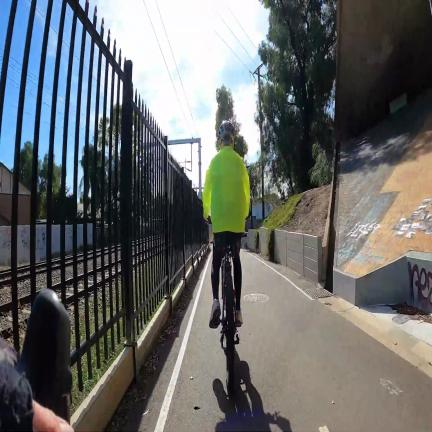Bike_Lane: (157, 252, 432, 432)
